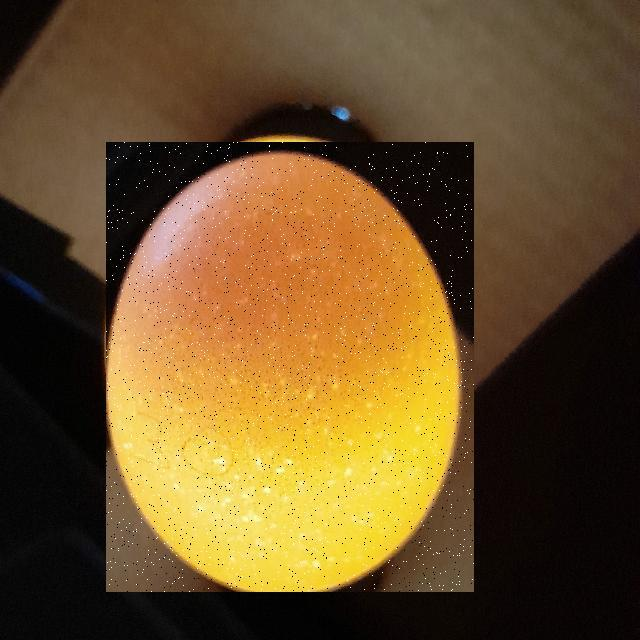AA - Premium: (106, 142, 474, 592)
